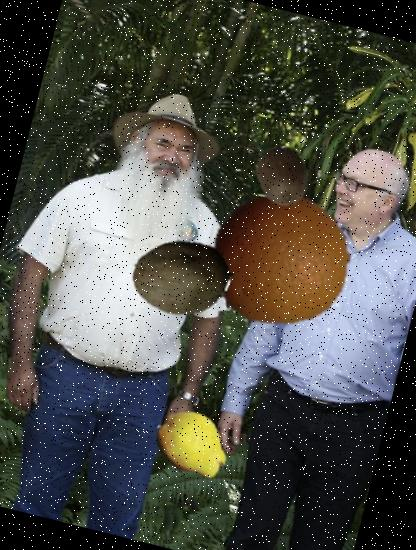Kiwi: (245, 140, 320, 214)
Orange: (196, 174, 366, 344)
Papaya: (122, 218, 240, 336)
Quince: (145, 397, 240, 492)
